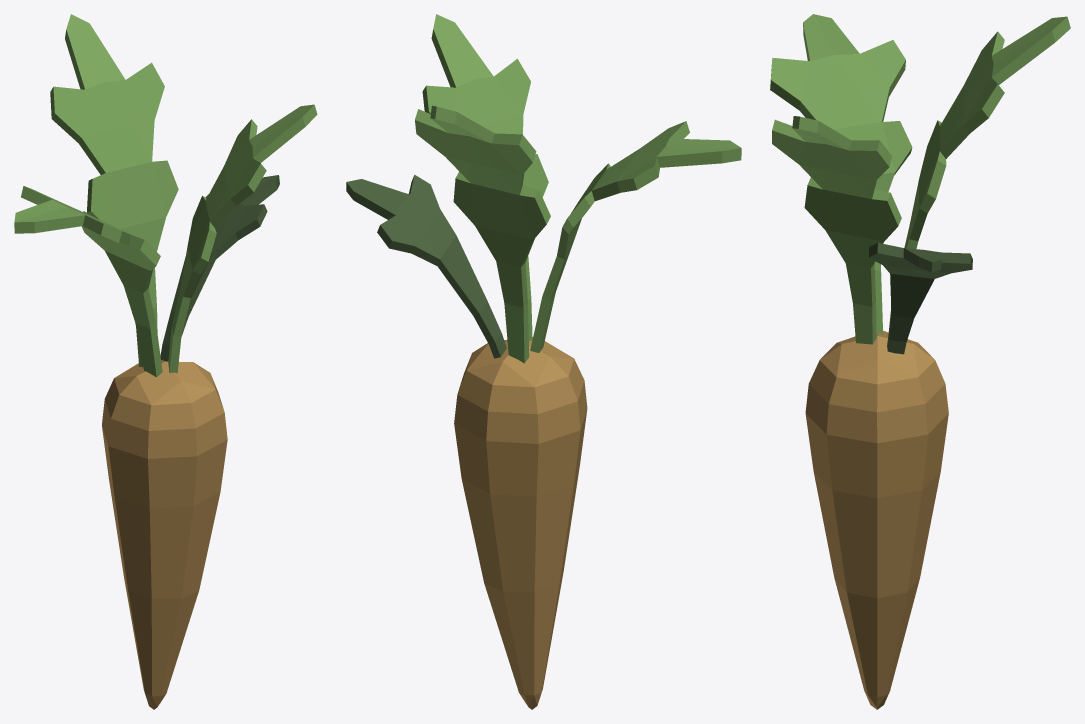
The model's file is Carrot_4.gltf.
3 renders of one model, left to right at view 1: azimuth 30°, elevation 25°; view 2: azimuth 150°, elevation 25°; view 3: azimuth 270°, elevation 25°, orthographic. The views are drawn at different scales.
Parts seen in each view (by area): view 1: Carrot_4; view 2: Carrot_4; view 3: Carrot_4.
Part boxes in pixels (bbox=[...]): Carrot_4: bbox=[14, 14, 317, 709]; Carrot_4: bbox=[346, 14, 741, 709]; Carrot_4: bbox=[770, 14, 1070, 709].
Size of the model in its own units: 0.6765 by 1.28 by 0.5016.
